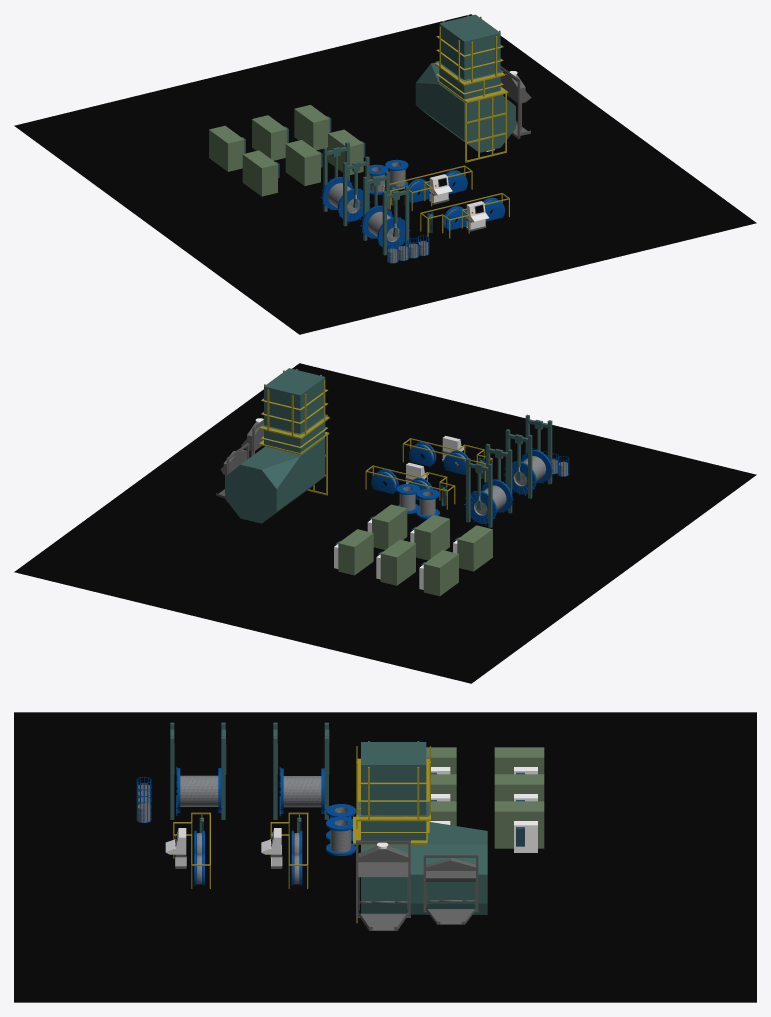
File: fabrica_montada.glb
3 renders of one model, top to bottom at view 1: azimuth 30°, elevation 25°; view 2: azimuth 150°, elevation 25°; view 3: azimuth 270°, elevation 25°, orthographic. The views are drawn at different scales.
Parts seen in each view (by area): view 1: Base, Cylinder.029, Computadora, Computadora.002, Computadora.001, Computadora.005, Computadora.003, Cylinder.004, Cylinder.009, Computadora.004, Cube.002, Plane.001 (+5 smaller); view 2: Base, Cylinder.029, Computadora.005, Computadora.001, Computadora.003, Computadora, Computadora.004, Computadora.002, Cylinder.009, Cylinder.004, Cube.001, Cube.002 (+3 smaller); view 3: Base, Cylinder.029, Plane.001, Computadora.005, Plane.002, Cylinder.009, Cylinder.004, Computadora.001, Computadora.003, Cylinder.031, Cube.002, Cube.001 (+6 smaller).
Part boxes in pixels (box(x1,y1,x2,y2)): Base: box(14, 14, 756, 334); Cylinder.029: box(415, 14, 515, 162); Computadora: box(242, 150, 279, 196); Computadora.002: box(285, 140, 322, 185); Computadora.001: box(209, 125, 245, 171); Computadora.005: box(294, 105, 331, 150); Computadora.003: box(252, 115, 288, 160); Cylinder.004: box(361, 205, 404, 249); Cylinder.009: box(322, 177, 362, 221); Computadora.004: box(328, 129, 365, 174); Cube.002: box(363, 171, 409, 255); Plane.001: box(500, 66, 531, 139); Base: box(14, 363, 756, 683); Cylinder.029: box(225, 368, 329, 523); Computadora.005: box(334, 529, 373, 575); Computadora.001: box(419, 550, 458, 596); Computadora.003: box(376, 539, 415, 585); Computadora: box(453, 525, 492, 571); Computadora.004: box(367, 504, 407, 549); Computadora.002: box(410, 515, 449, 560); Cylinder.009: box(465, 479, 512, 523); Cylinder.004: box(505, 449, 552, 494); Cube.001: box(466, 443, 512, 527); Cube.002: box(505, 414, 552, 498); Base: box(14, 712, 756, 1002); Cylinder.029: box(353, 742, 487, 923); Plane.001: box(356, 840, 410, 930); Computadora.005: box(494, 801, 544, 852); Plane.002: box(423, 854, 478, 924); Cylinder.009: box(280, 768, 324, 813); Cylinder.004: box(177, 768, 221, 812); Computadora.001: box(494, 747, 544, 774); Computadora.003: box(494, 774, 544, 801); Cylinder.031: box(326, 816, 355, 855); Cube.002: box(170, 722, 225, 819); Cube.001: box(273, 722, 328, 819).
Bounding box in the file's own units: 111 × 29.66 × 120.
25 materials, 3 textured.
